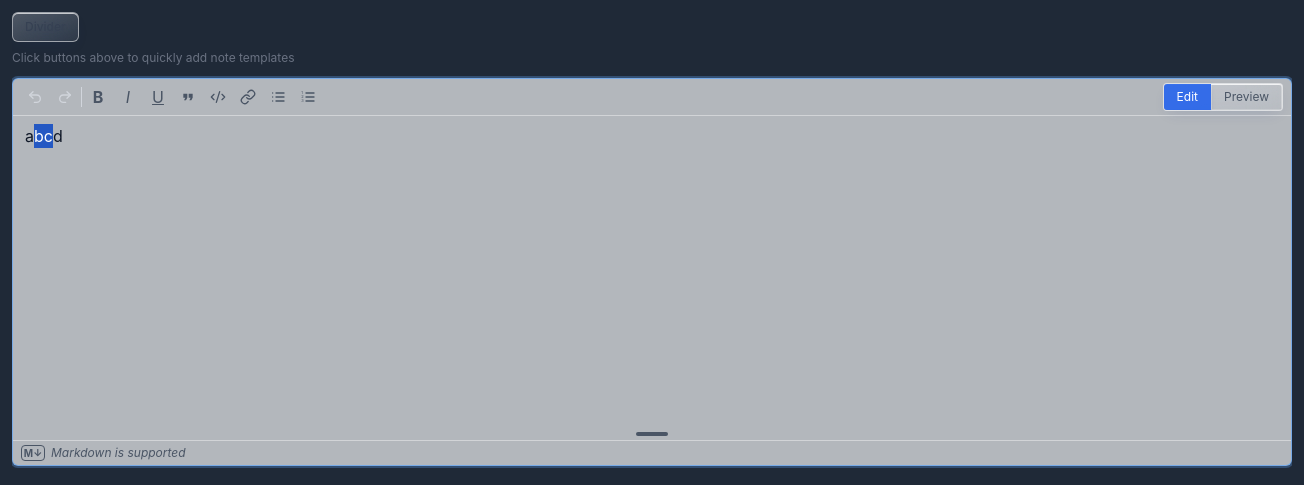
Test: MarkdownEditorField template buttons › replaces the current selection
This screenshot has width=1304, height=485.
Click the button "Divider".
click(45, 27)  # box x1=12 y1=12 x2=79 y2=42
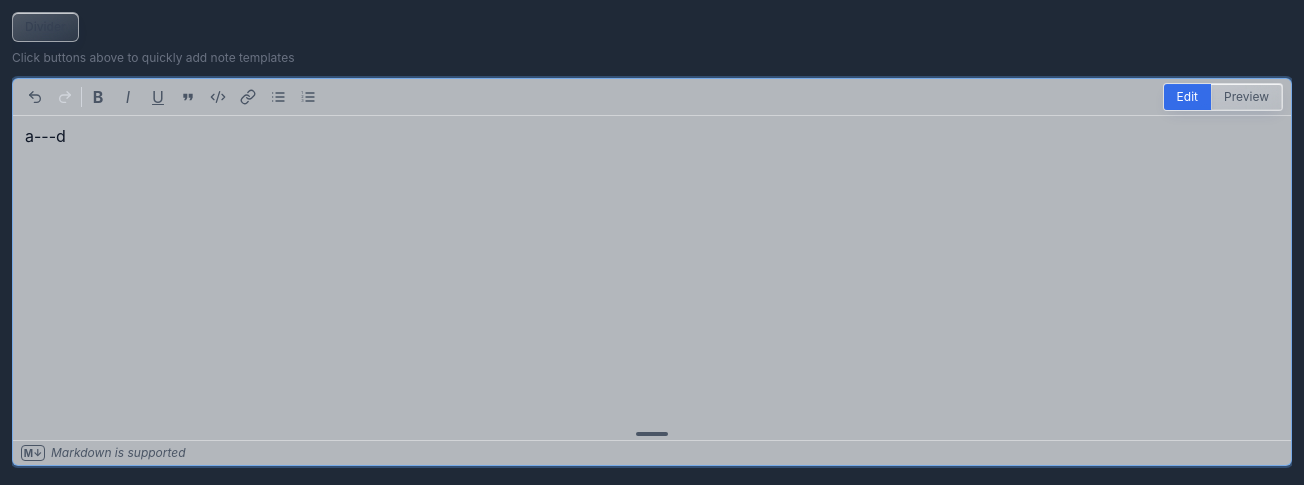
Check: the text box holds "a---d"
